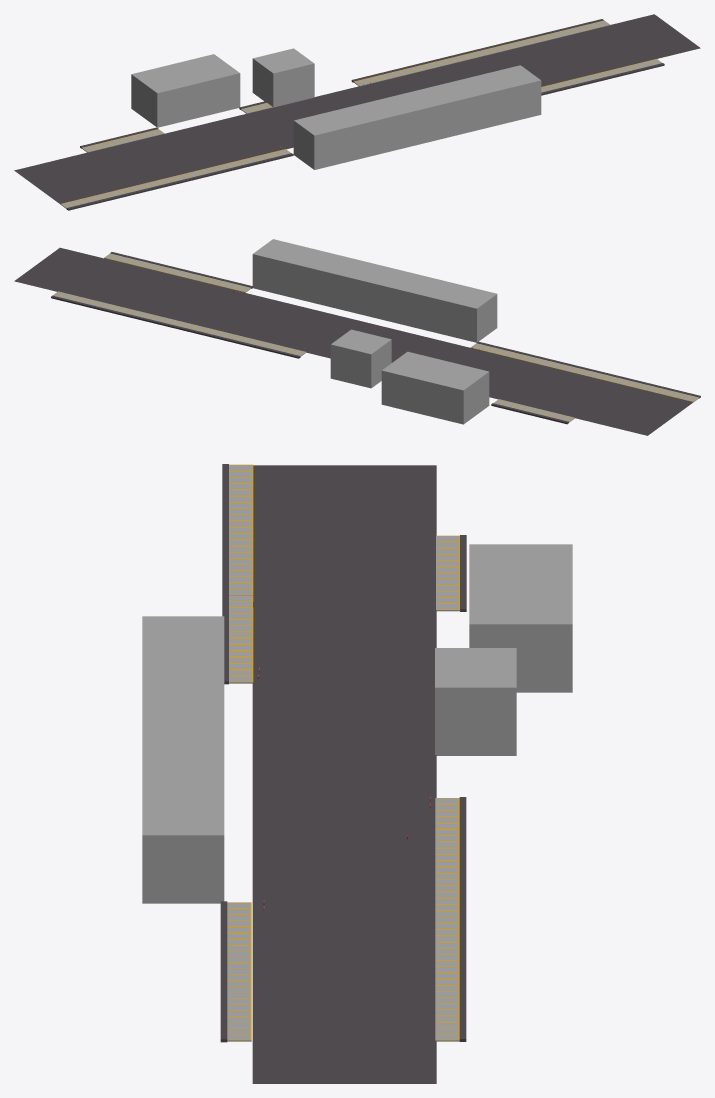
File: mid.fbx
The picture shows the model from 3 angles, top to bottom: view 1: azimuth 30°, elevation 25°; view 2: azimuth 150°, elevation 25°; view 3: azimuth 270°, elevation 25°; orthographic projection. The views are drawn at different scales.
Parts seen in each view (by area): view 1: pPlane1, pCube174, tm_otopark_model:pCube174, tm_otopark_model:pCube173, pCube176, pCube175, pCube179; view 2: pPlane1, pCube174, tm_otopark_model:pCube174, tm_otopark_model:pCube173, pCube175, pCube176, pCube179; view 3: pPlane1, pCube174, tm_otopark_model:pCube174, tm_otopark_model:pCube173, pCube175, pCube176, pCube179.
Boxes of the visible parts, x1,y1,x2,y2 form: pPlane1: [14, 14, 700, 204]; pCube174: [293, 65, 541, 169]; tm_otopark_model:pCube174: [131, 54, 240, 127]; tm_otopark_model:pCube173: [252, 48, 314, 107]; pCube176: [66, 153, 293, 210]; pCube175: [351, 19, 603, 82]; pCube179: [541, 63, 664, 95]; pPlane1: [14, 247, 692, 435]; pCube174: [252, 239, 497, 342]; tm_otopark_model:pCube174: [381, 351, 489, 424]; tm_otopark_model:pCube173: [330, 329, 391, 388]; pCube175: [51, 295, 300, 358]; pCube176: [477, 341, 700, 398]; pCube179: [110, 252, 252, 288]; pPlane1: [252, 465, 436, 1083]; pCube174: [142, 616, 224, 903]; tm_otopark_model:pCube174: [469, 544, 572, 692]; tm_otopark_model:pCube173: [435, 648, 516, 755]; pCube175: [459, 797, 466, 1041]; pCube176: [222, 464, 228, 684]; pCube179: [220, 901, 227, 1042].
Size of the model in its own units: 85.97 by 4.46 by 25.27.
